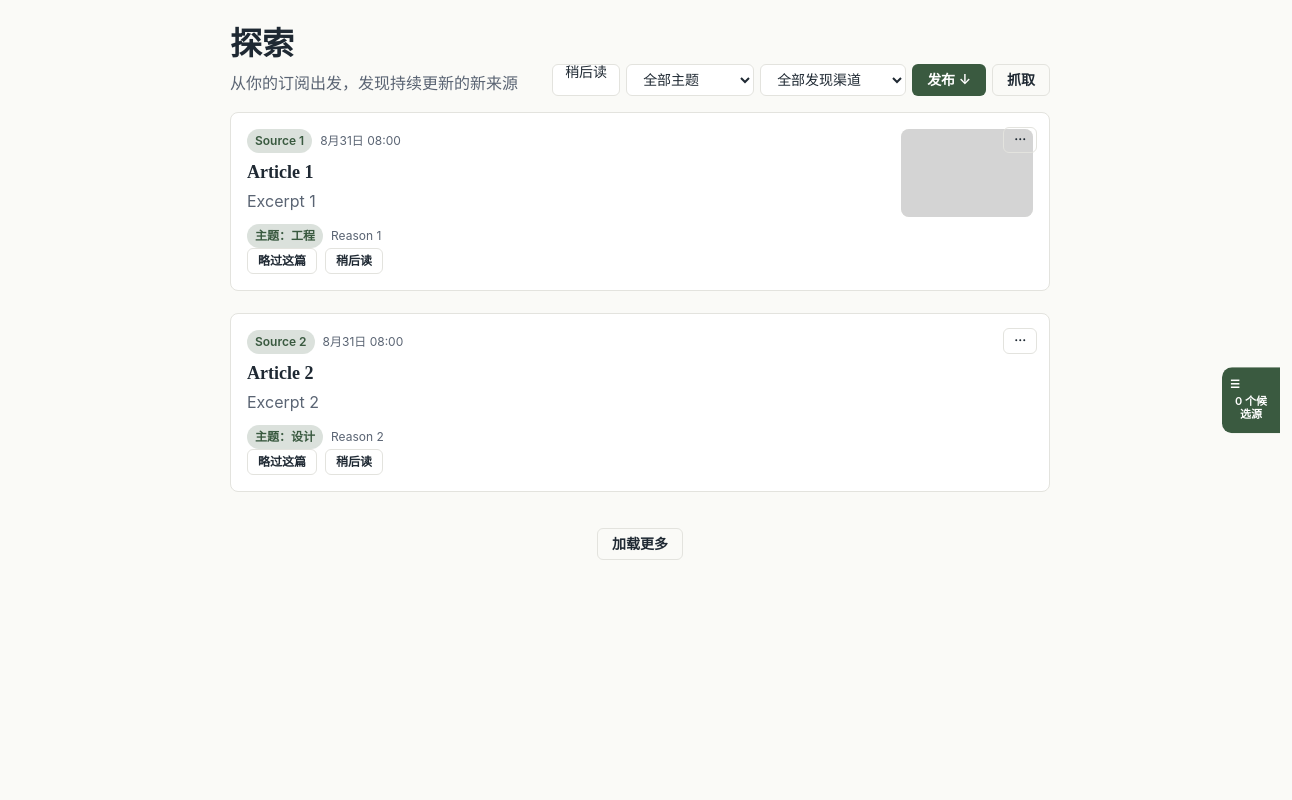
Test: ExplorePage › defaults to published descending, switches sort/order/topic, and requests another page
The width and height of the screenshot is (1292, 800).
Expected: the button "Article 1" is shown, [247,161,314,184]
Click the button "抓取". click: (1021, 80)
box: [992,64,1050,96]
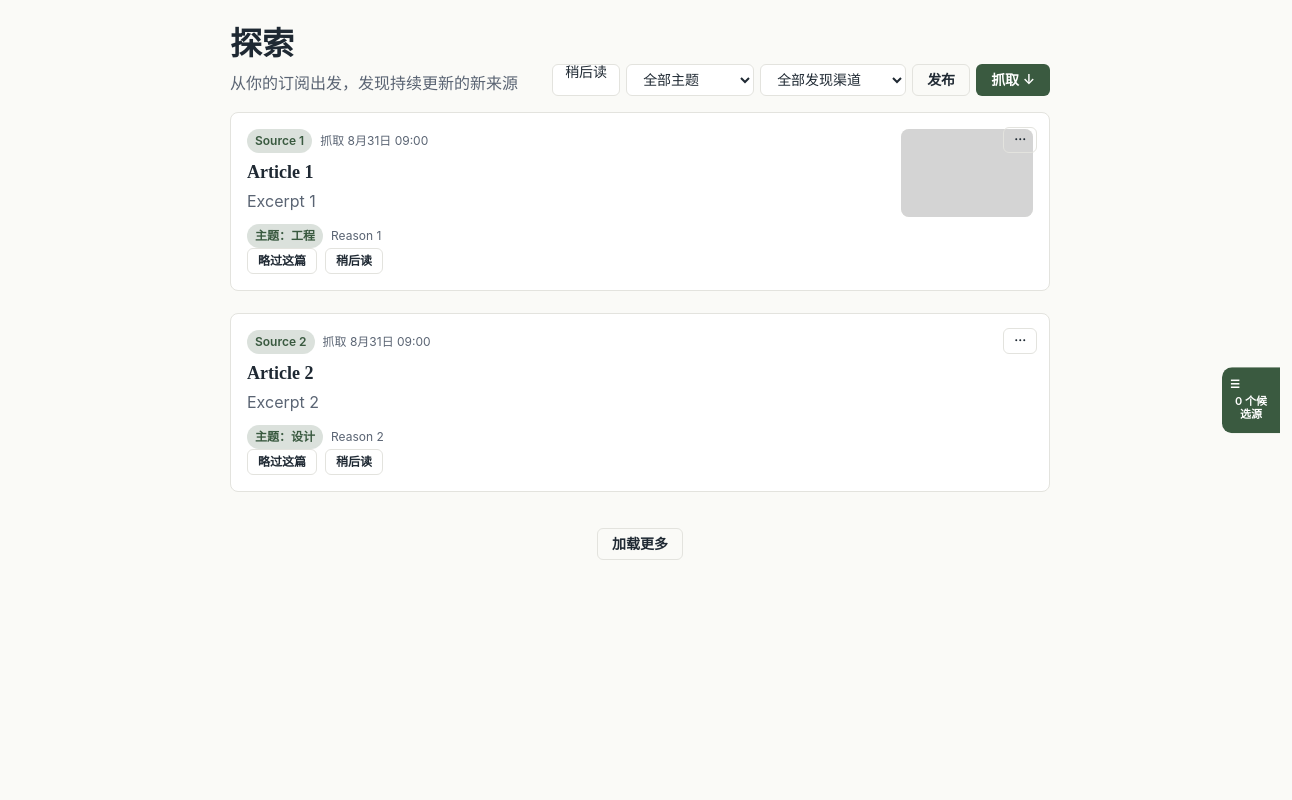
Click the button "抓取 ↓". click: (1013, 80)
box: [976,64,1050,96]
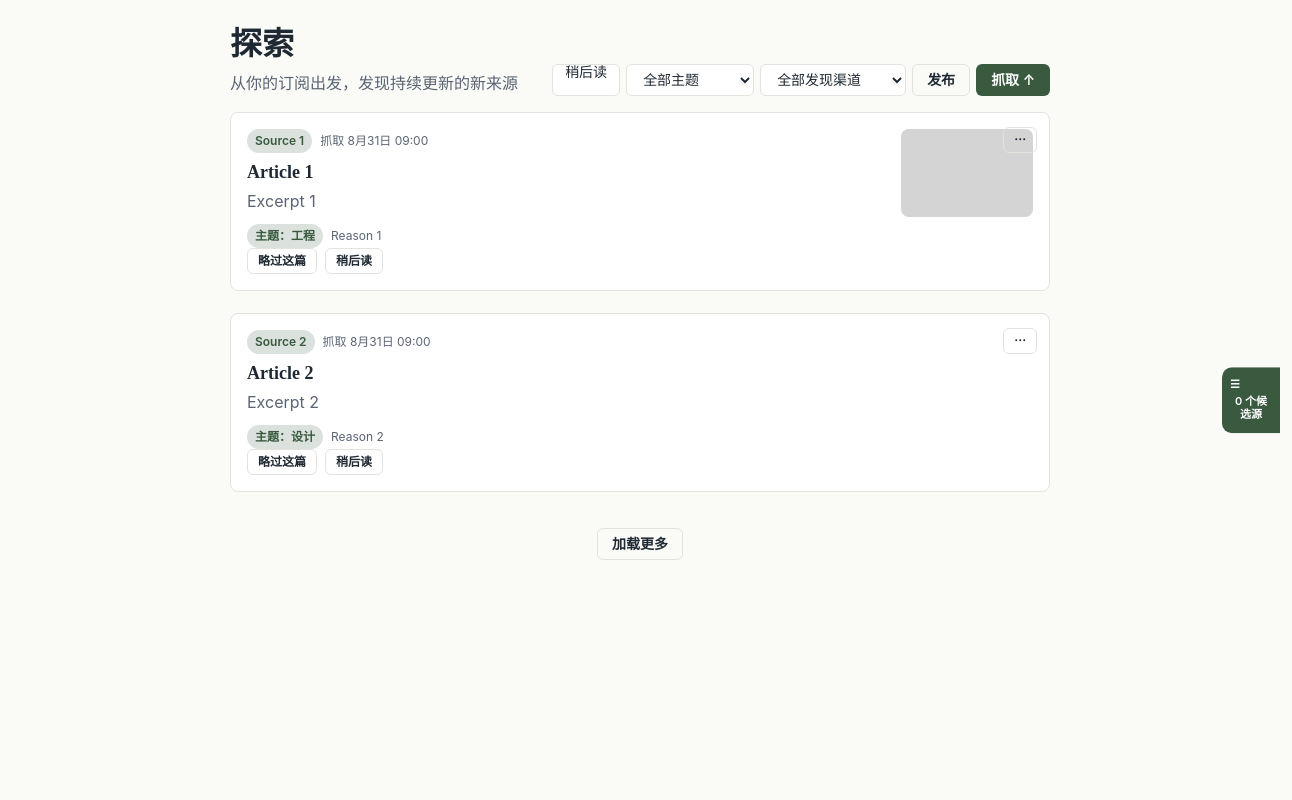
Select "工程" in the dropdown named "主题筛选". click: (690, 80)
box: [626,64,754,96]
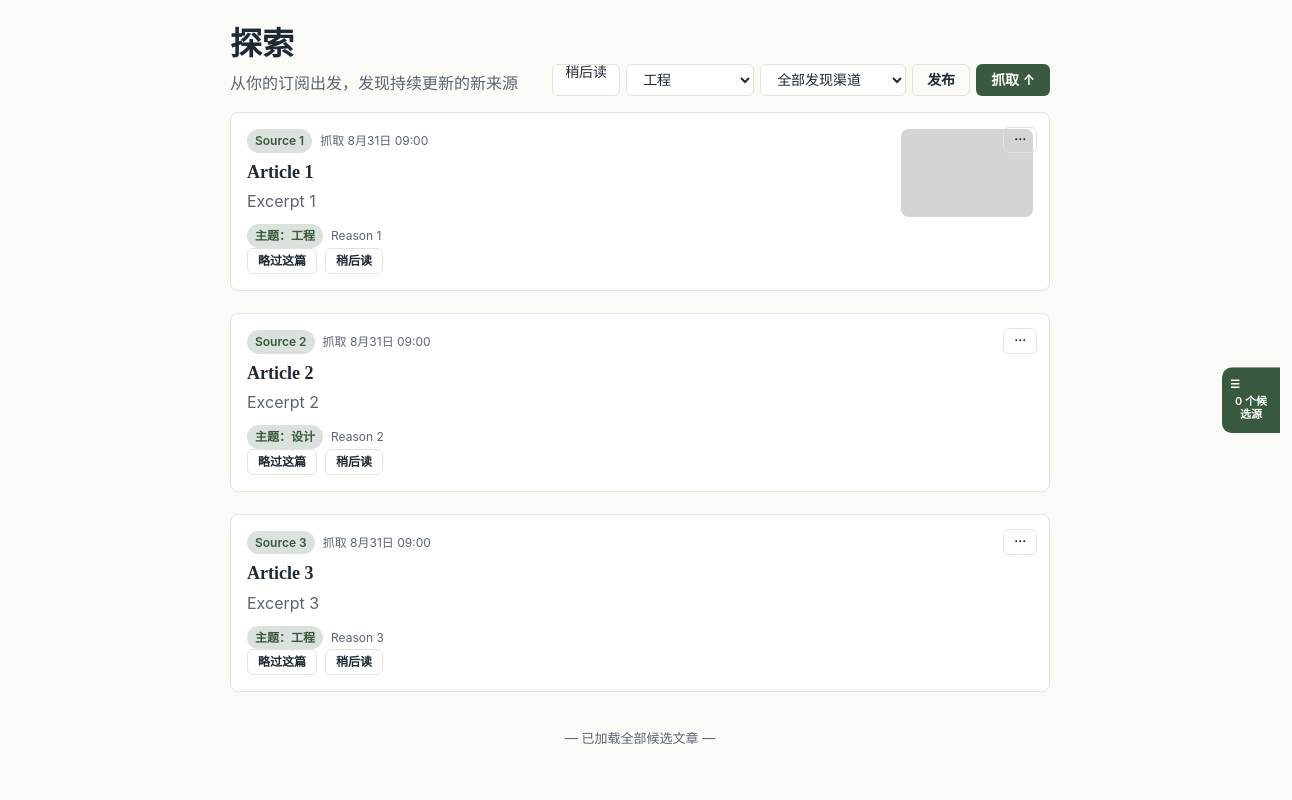
Expected: the button "Article 3" is shown, [247,562,314,586]
